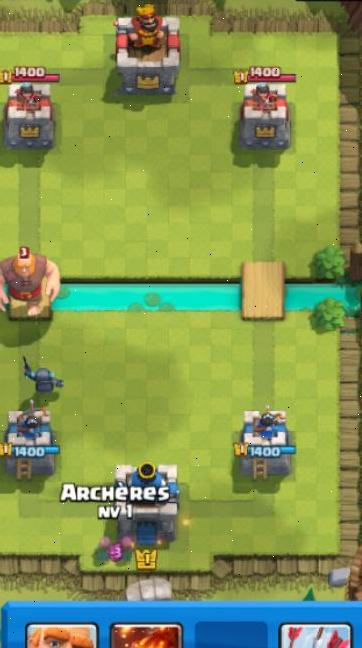enemy_giant: (0, 245, 64, 320)
player_mini_pekka: (18, 354, 67, 401)
